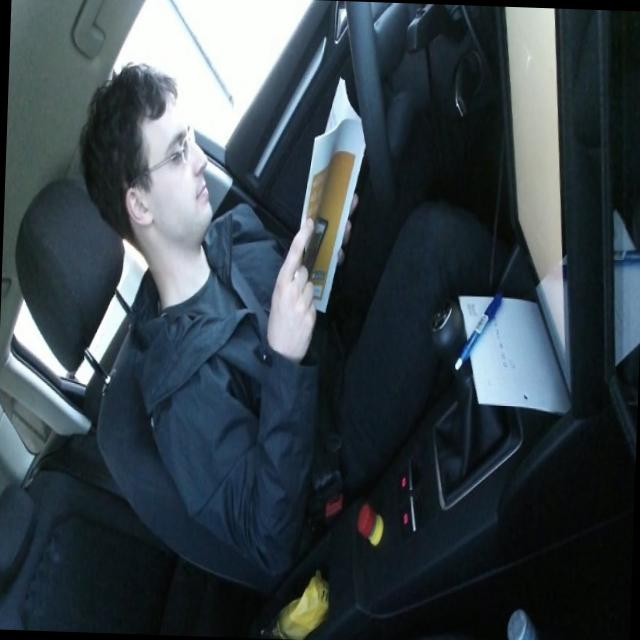pen: (453, 287, 502, 372)
